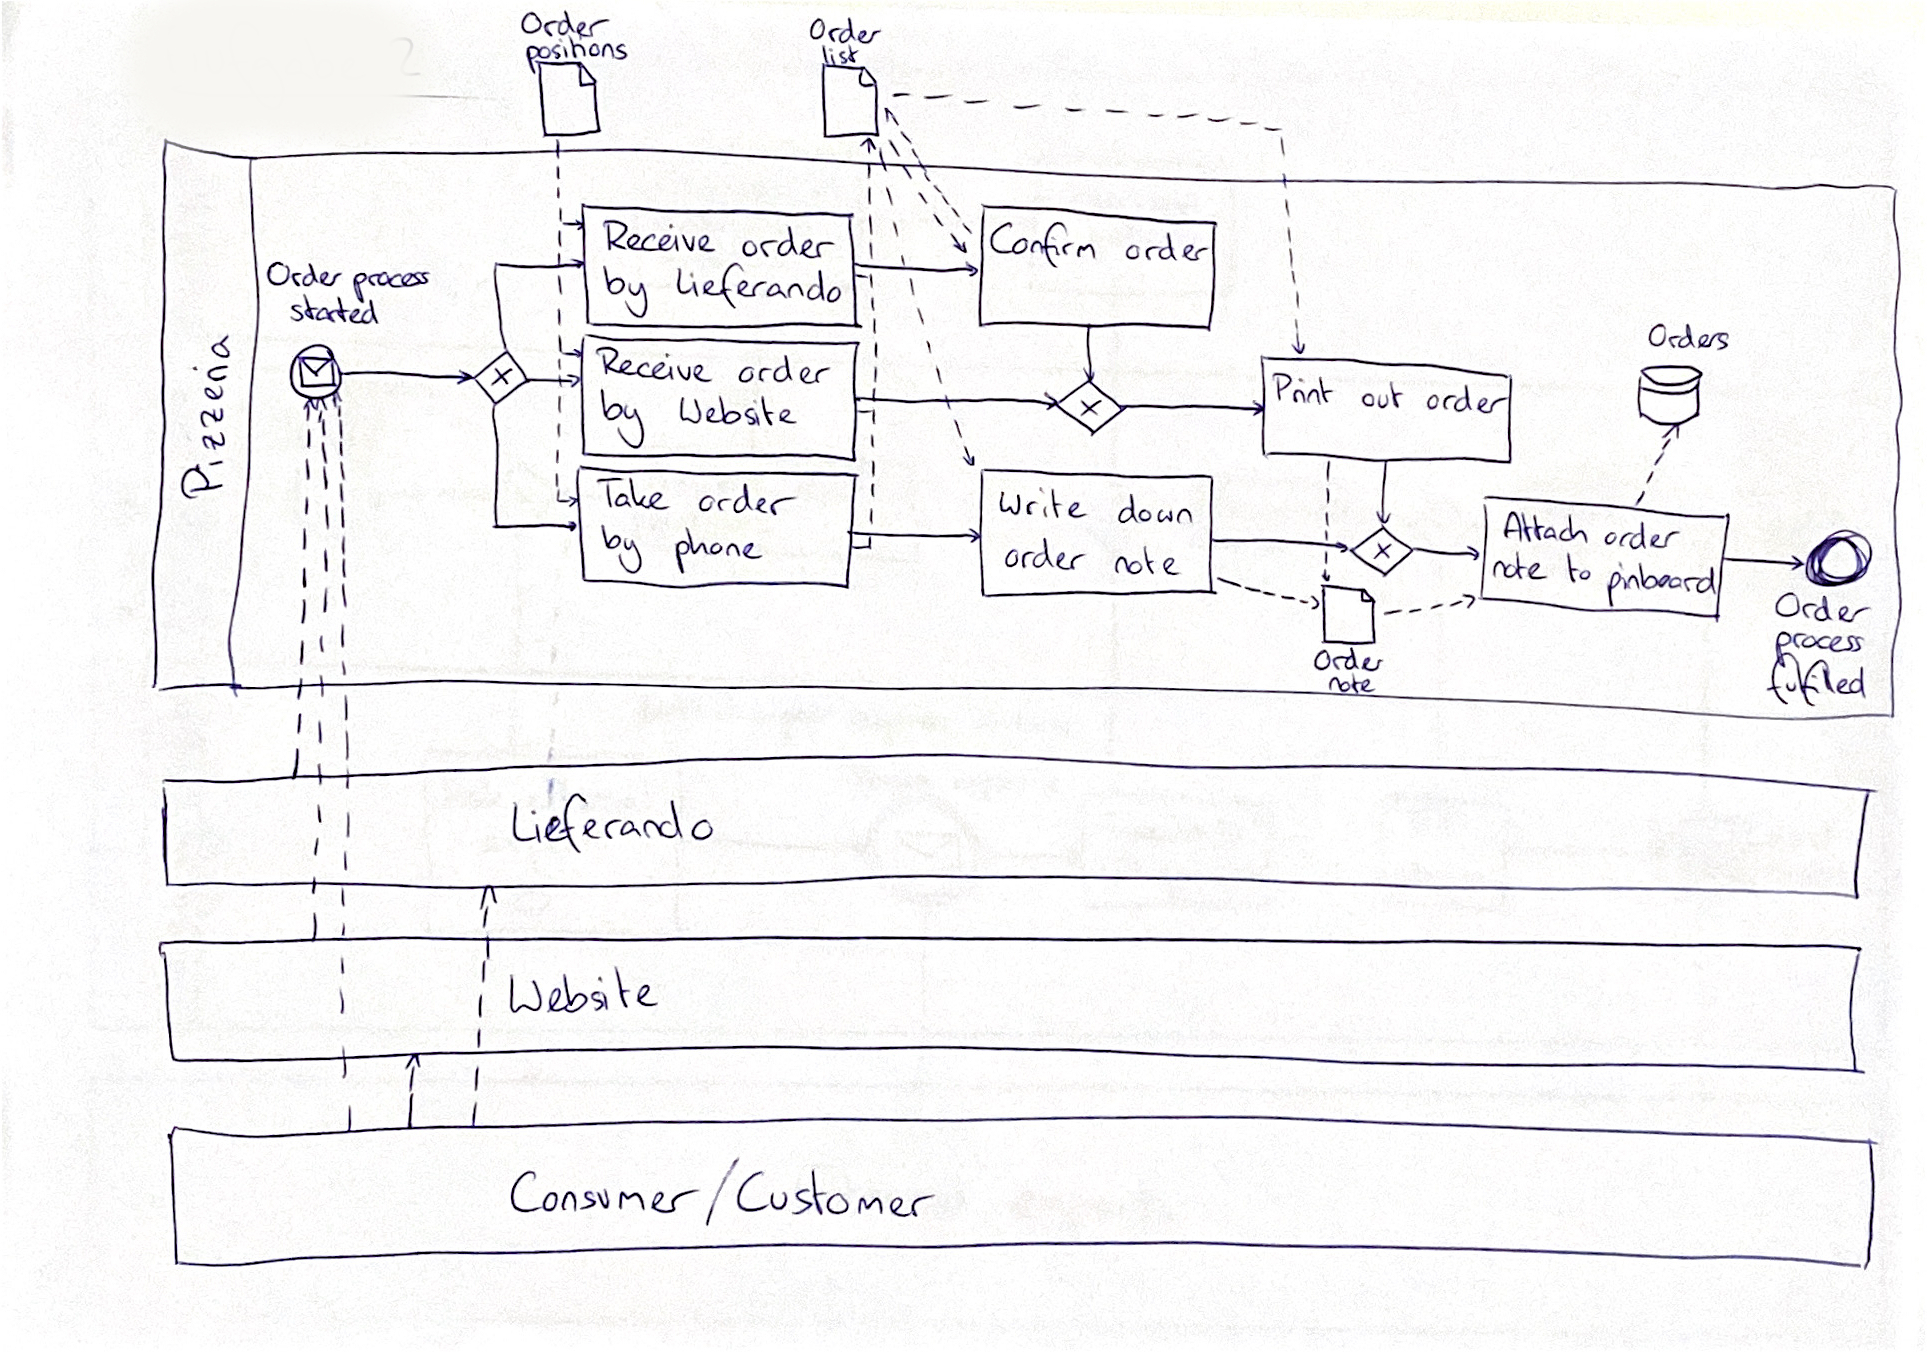/Customer: (706, 1156, 939, 1232)
Attach: (1501, 508, 1596, 551)
Confirm: (987, 220, 1100, 267)
Consumer: (507, 1163, 701, 1229)
Lieferando: (505, 792, 717, 853), (668, 261, 846, 311)
Order: (1775, 590, 1874, 623), (515, 6, 612, 38), (805, 15, 886, 47), (264, 261, 346, 291), (1311, 649, 1390, 677)
Orders: (1644, 322, 1732, 357)
Pizzeria: (182, 331, 234, 498)
Print: (1270, 369, 1338, 413)
Receive: (593, 346, 713, 387), (600, 221, 715, 253)
Take: (594, 478, 671, 513)
Website: (502, 964, 660, 1019), (674, 394, 797, 434)
Write: (991, 486, 1089, 524)
by: (597, 390, 649, 450), (597, 265, 656, 316), (597, 523, 647, 579)
down: (1113, 494, 1195, 533)
fulfilled: (1766, 656, 1868, 706)
list: (814, 44, 867, 67)
note: (1108, 545, 1182, 584), (1489, 548, 1551, 584), (1324, 675, 1376, 693)
order: (738, 224, 839, 264), (696, 482, 799, 520), (737, 350, 833, 390), (1120, 230, 1209, 270), (1003, 538, 1092, 576), (1422, 384, 1510, 420), (1602, 519, 1685, 557)
out: (1359, 379, 1409, 415)
phone: (668, 529, 764, 576)
pinboard: (1602, 560, 1718, 608)
positions: (523, 38, 631, 63)
process: (350, 264, 433, 302), (1773, 628, 1867, 658)
started: (286, 299, 384, 327)
to: (1562, 554, 1595, 586)
